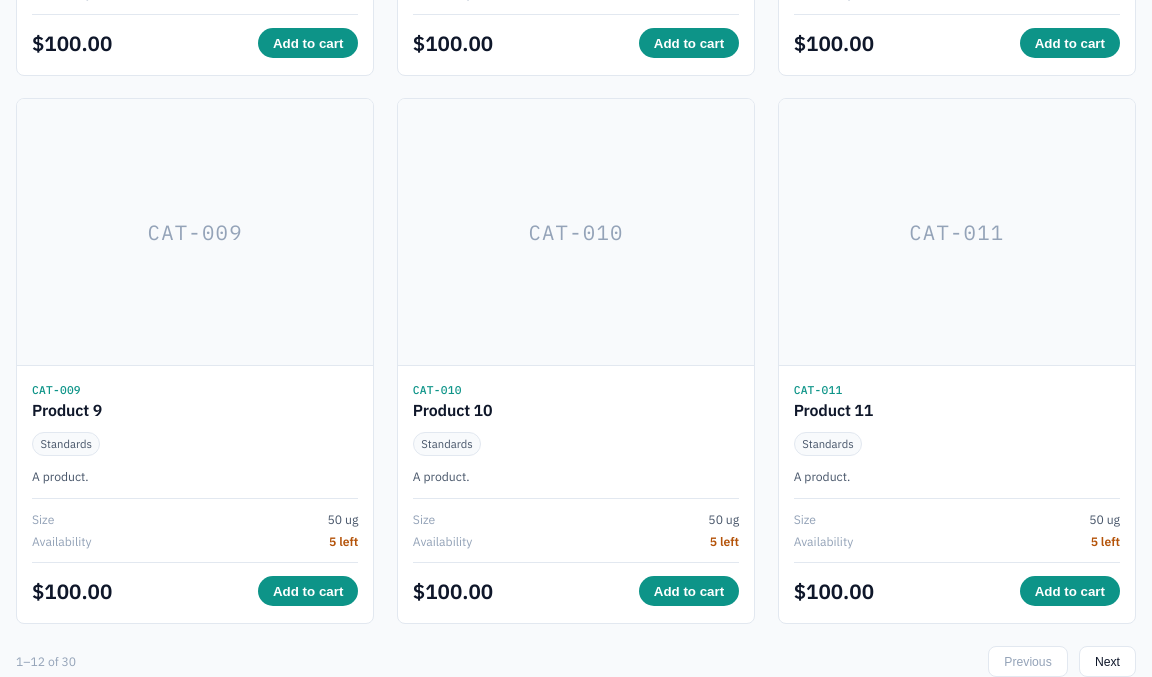
it: ProductsPage paging › returns to the first page when the filter changes
The width and height of the screenshot is (1152, 677).
(page scrolled)
Click the button "Next" at [1108, 662], box [1079, 646, 1136, 676]
(page scrolled)
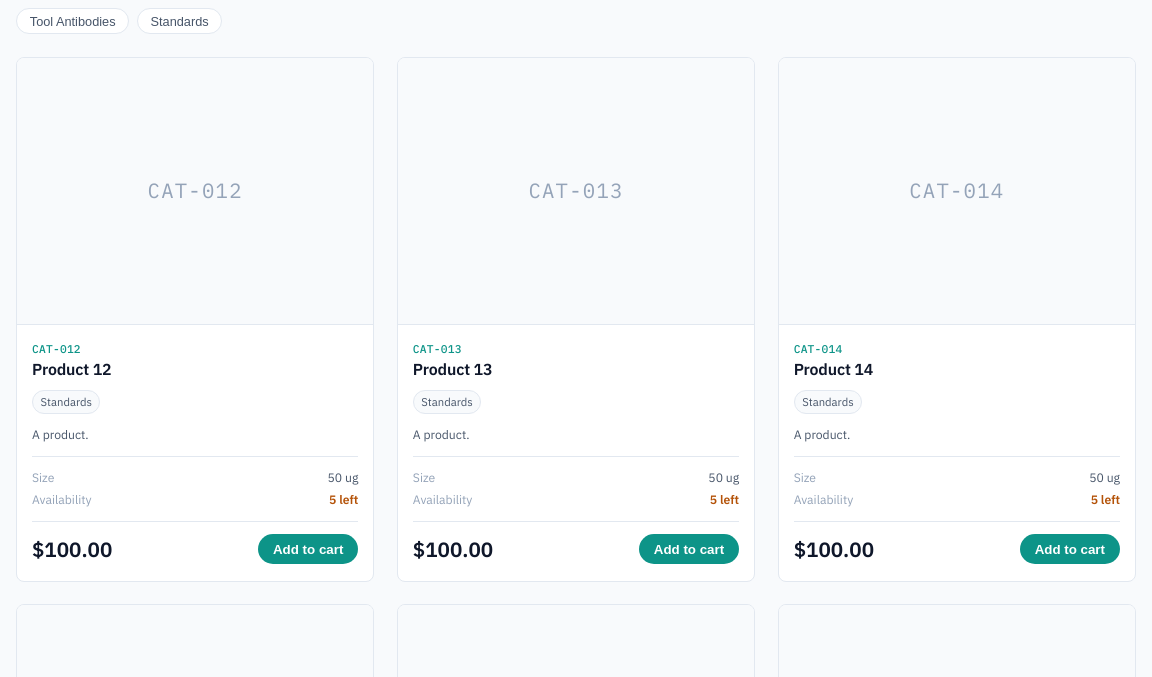
Check: the heading "Product 12" is shown, box [32, 359, 112, 379]
Click the button "Standards" at [180, 21], box [137, 8, 222, 34]
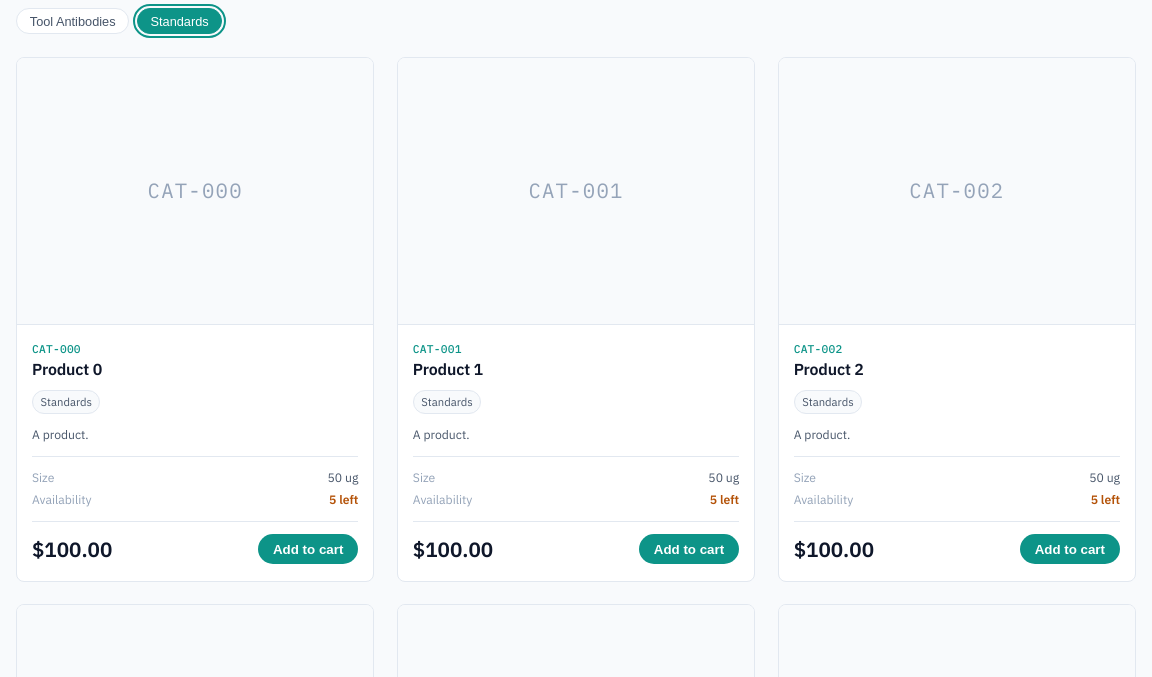
Check: the heading "Product 0" is shown, box [32, 359, 102, 379]
